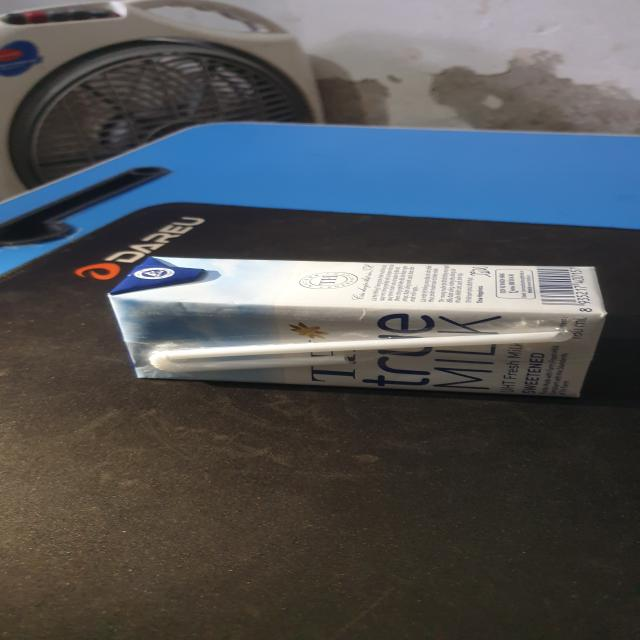TH: (107, 256, 608, 398)
